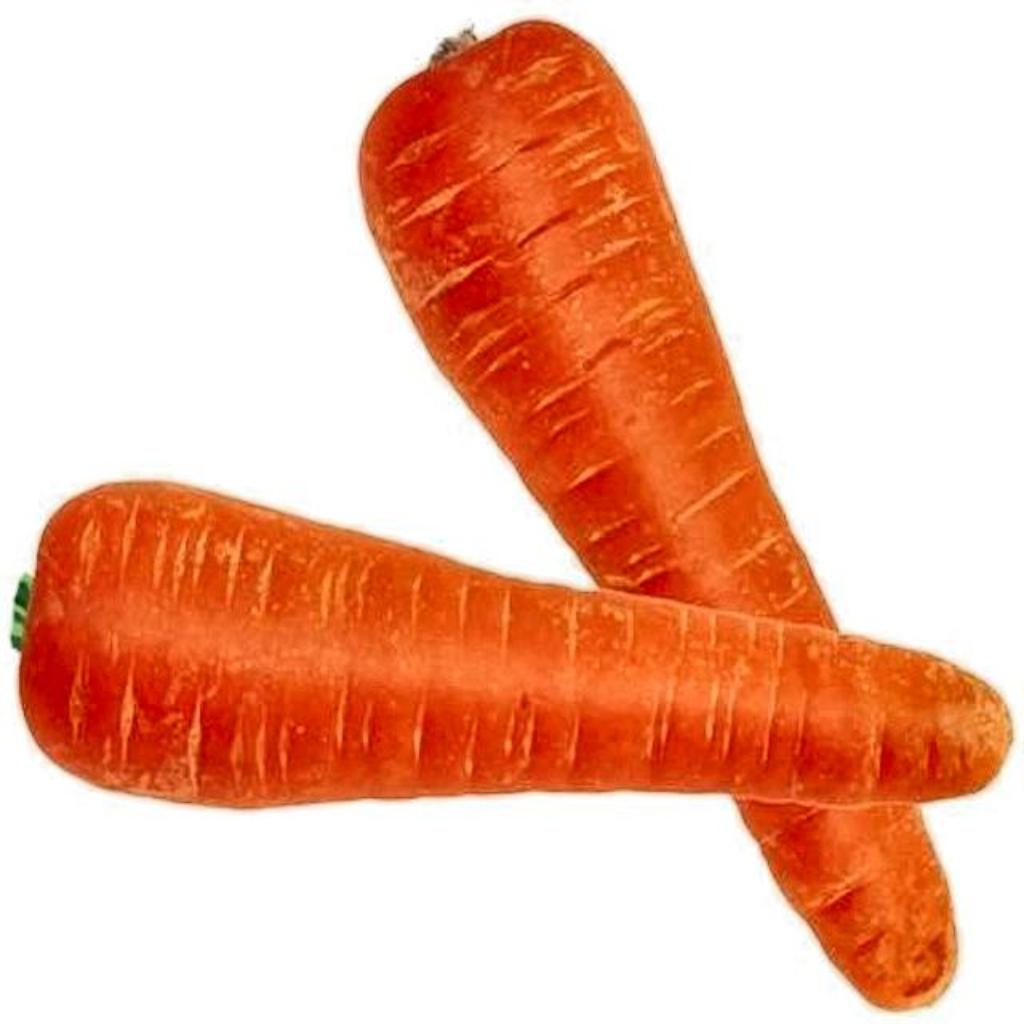carrot: (360, 22, 960, 1010), (20, 484, 1010, 806)
